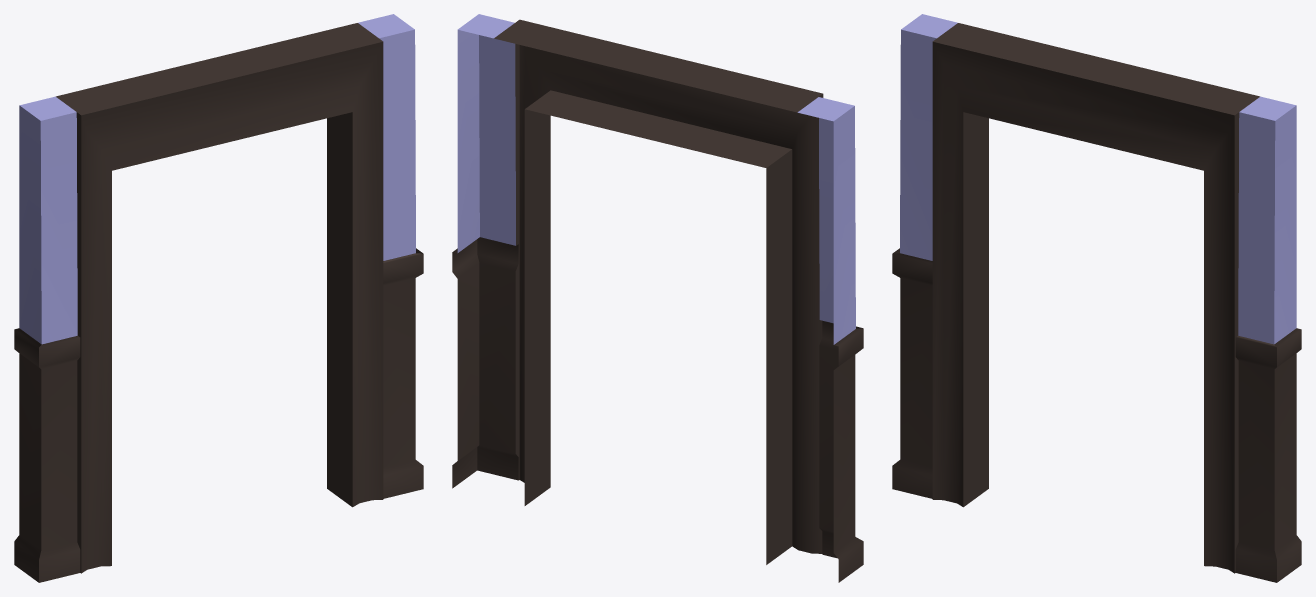
The model's file is Door Frame.fbx.
3 renders of one model, left to right at view 1: azimuth 30°, elevation 25°; view 2: azimuth 150°, elevation 25°; view 3: azimuth 330°, elevation 25°, orthographic.
Visible parts, largest first — view 1: pCube8; view 2: pCube8; view 3: pCube8.
Boxes of the visible parts, x1,y1,x2,y2 form: pCube8: [14, 14, 423, 582]; pCube8: [452, 14, 863, 582]; pCube8: [892, 14, 1301, 582].
Size of the model in its own units: 112 by 128 by 13.
